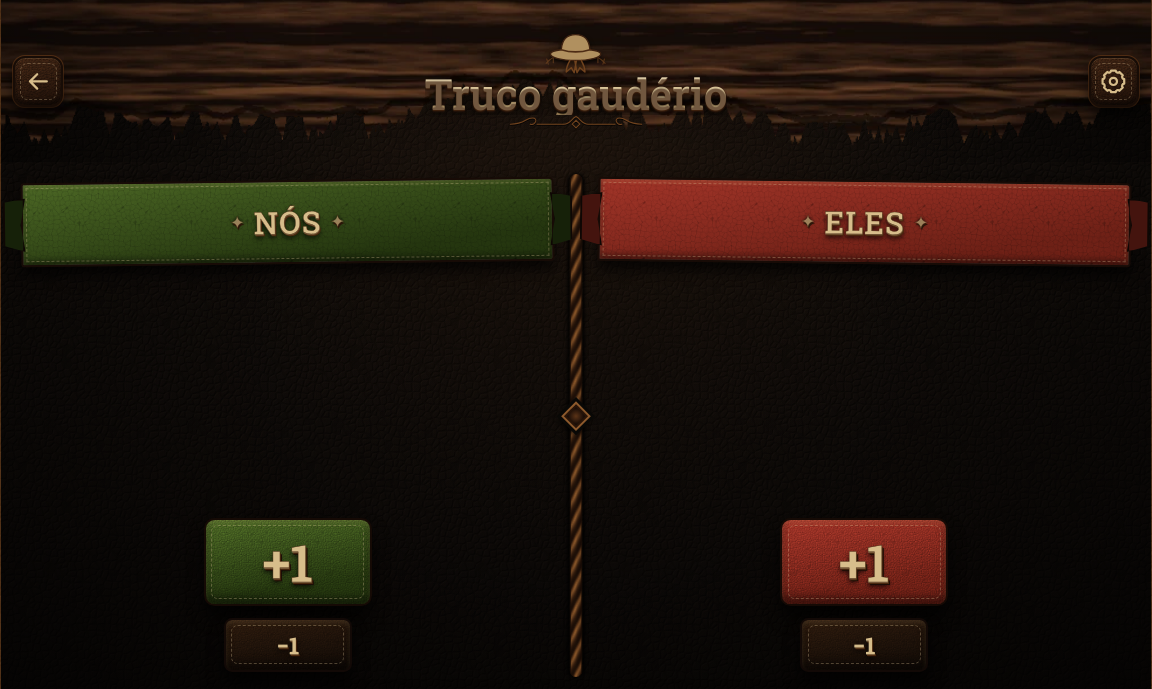
truco gaudério screens › offers only unit scoring, prevents negatives and has no rules or log UI
Expected: the heading "Truco gaudério" is shown, [425, 71, 727, 115]
Expected: the button named "Remover 1 ponto de Nós" is disabled, [224, 618, 352, 672]
Click the button named "Adicionar 1 ponto para Nós" at (288, 562), box [204, 518, 372, 606]
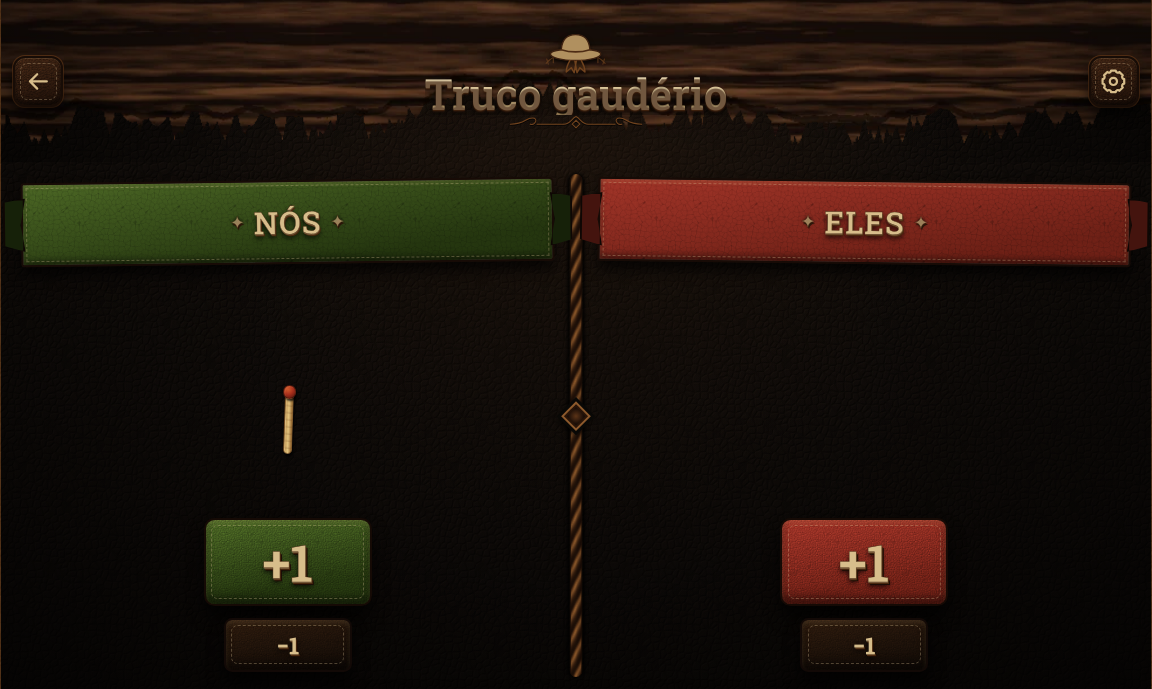
Expected: the element named "Nós: 1 ponto" is shown, [283, 388, 294, 454]
Click the button named "Remover 1 ponto de Nós" at (288, 645), box [224, 618, 352, 672]
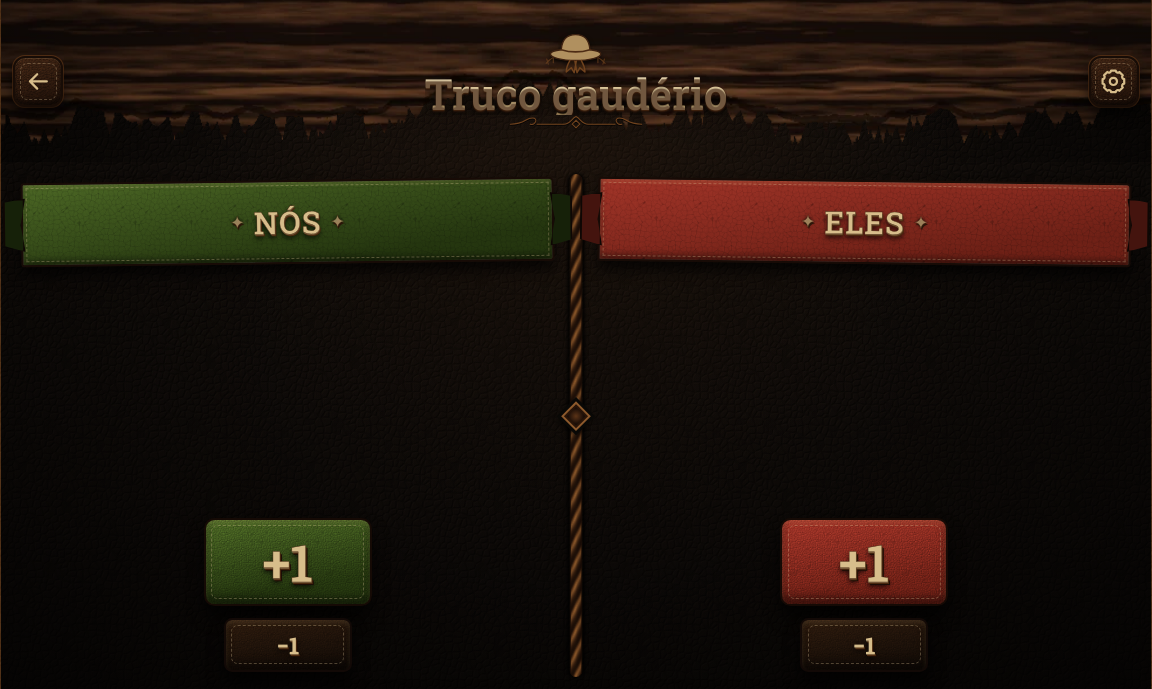
Expected: the element named "Nós: 0 pontos" is shown, [11, 276, 564, 506]
